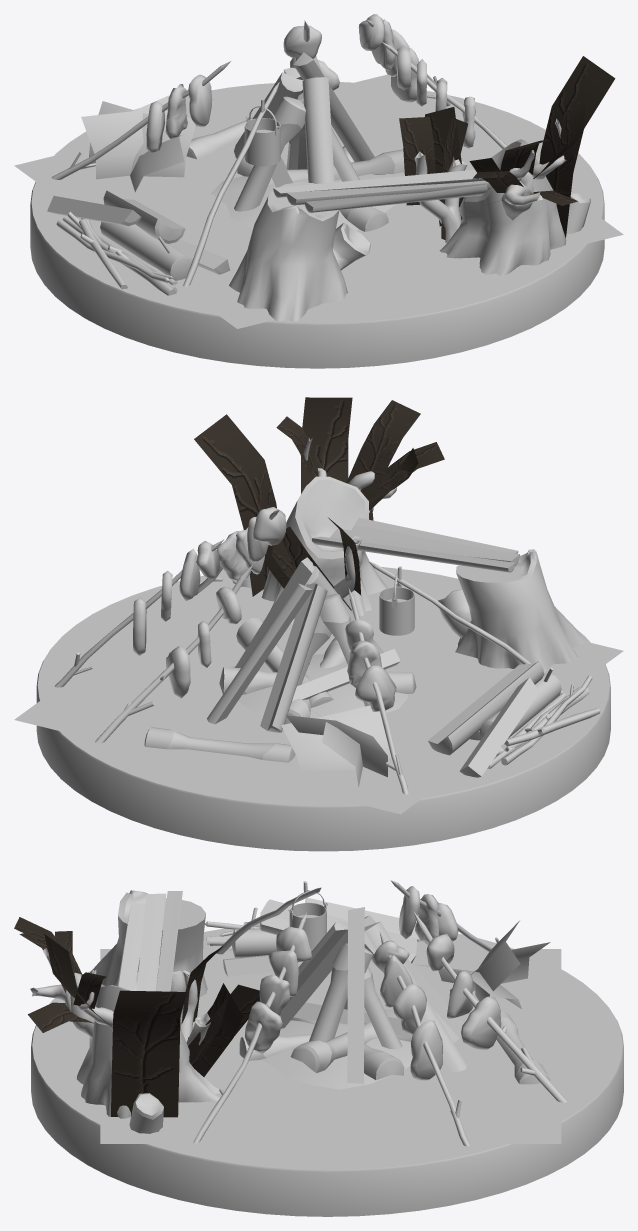
Rendered from Bonfire_05.fbx.
3 renders of one model, top to bottom at view 1: azimuth 30°, elevation 25°; view 2: azimuth 150°, elevation 25°; view 3: azimuth 270°, elevation 25°, orthographic. The views are drawn at different scales.
Visible parts, largest first — view 1: platform, decal, stump_01, bonfire, stump_02, logs, grass, bench, eat_04, water, eat_01, eat_02 (+1 smaller); view 2: platform, decal, stump_01, bonfire, stump_02, logs, grass, bench, eat_02, eat_04, eat_03, eat_01 (+1 smaller); view 3: platform, decal, stump_01, bonfire, eat_02, bench, eat_01, logs, eat_03, stump_02, grass, eat_04 (+1 smaller).
Boxes of the visible parts, <box> form: platform: <box>30,82,604,368</box>; decal: <box>14,74,623,328</box>; stump_01: <box>399,56,615,275</box>; bonfire: <box>186,52,404,231</box>; stump_02: <box>229,182,370,321</box>; logs: <box>47,190,230,295</box>; grass: <box>81,95,196,192</box>; bench: <box>273,170,490,212</box>; eat_04: <box>51,61,230,179</box>; water: <box>183,82,280,286</box>; eat_01: <box>382,42,507,149</box>; eat_02: <box>358,14,450,106</box>; platform: <box>36,567,610,851</box>; decal: <box>14,569,623,814</box>; stump_01: <box>194,397,444,623</box>; bonfire: <box>144,557,416,762</box>; stump_02: <box>438,549,587,671</box>; logs: <box>428,661,600,777</box>; grass: <box>281,705,391,787</box>; bench: <box>312,517,519,572</box>; eat_02: <box>55,539,224,687</box>; eat_04: <box>345,588,408,794</box>; eat_03: <box>95,565,252,743</box>; eat_01: <box>198,507,286,593</box>; platform: <box>31,928,623,1216</box>; decal: <box>100,949,561,1143</box>; stump_01: <box>14,917,260,1133</box>; bonfire: <box>239,907,550,1089</box>; eat_02: <box>372,931,470,1146</box>; bench: <box>117,891,182,991</box>; eat_01: <box>193,913,311,1143</box>; logs: <box>205,897,424,976</box>; eat_03: <box>413,911,567,1102</box>; stump_02: <box>90,890,207,997</box>; grass: <box>415,920,550,1008</box>; eat_04: <box>390,880,498,951</box>.
Bounding box in the file's own units: 0.0343 × 0.0135 × 0.0352.
